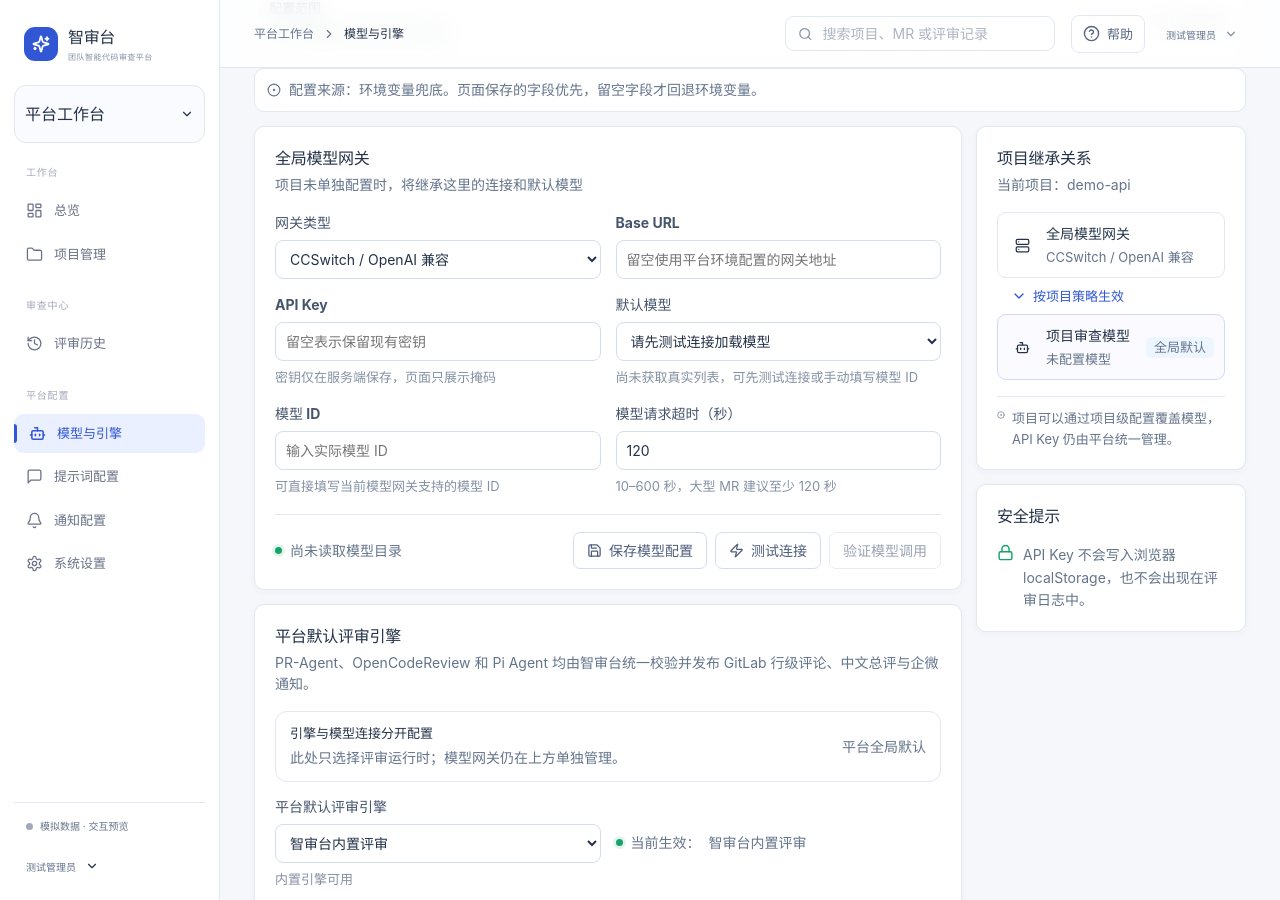
Test: treats clicking the current page as a no-op without clearing its unsaved marker
This screenshot has width=1280, height=900.
(page scrolled)
Step 1. Type "draft" into the field labelled "模型 ID" → (438, 450), box left=275, top=430, right=600, bottom=470
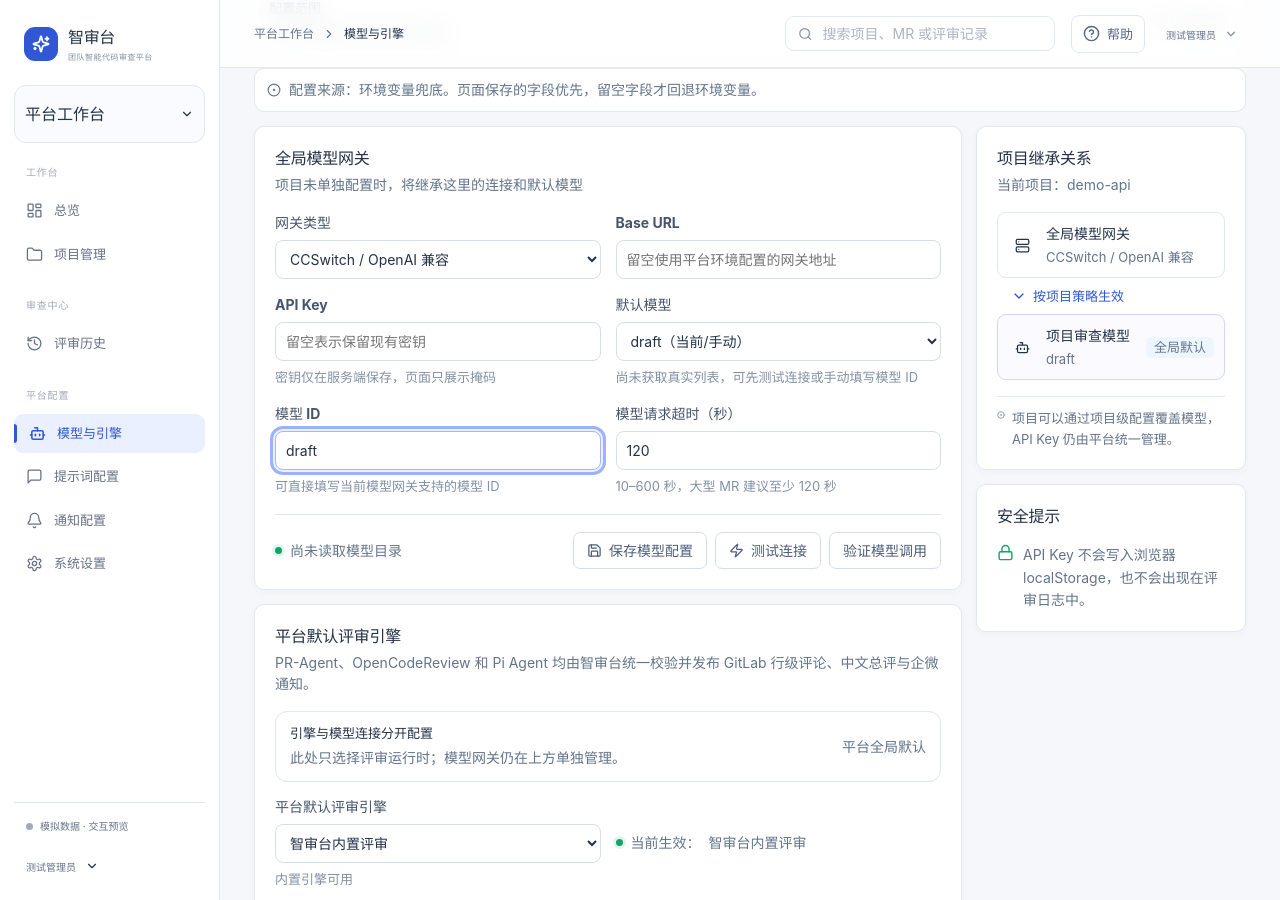
Step 2. Click the button "模型与引擎" → click(110, 433), box left=14, top=414, right=205, bottom=453
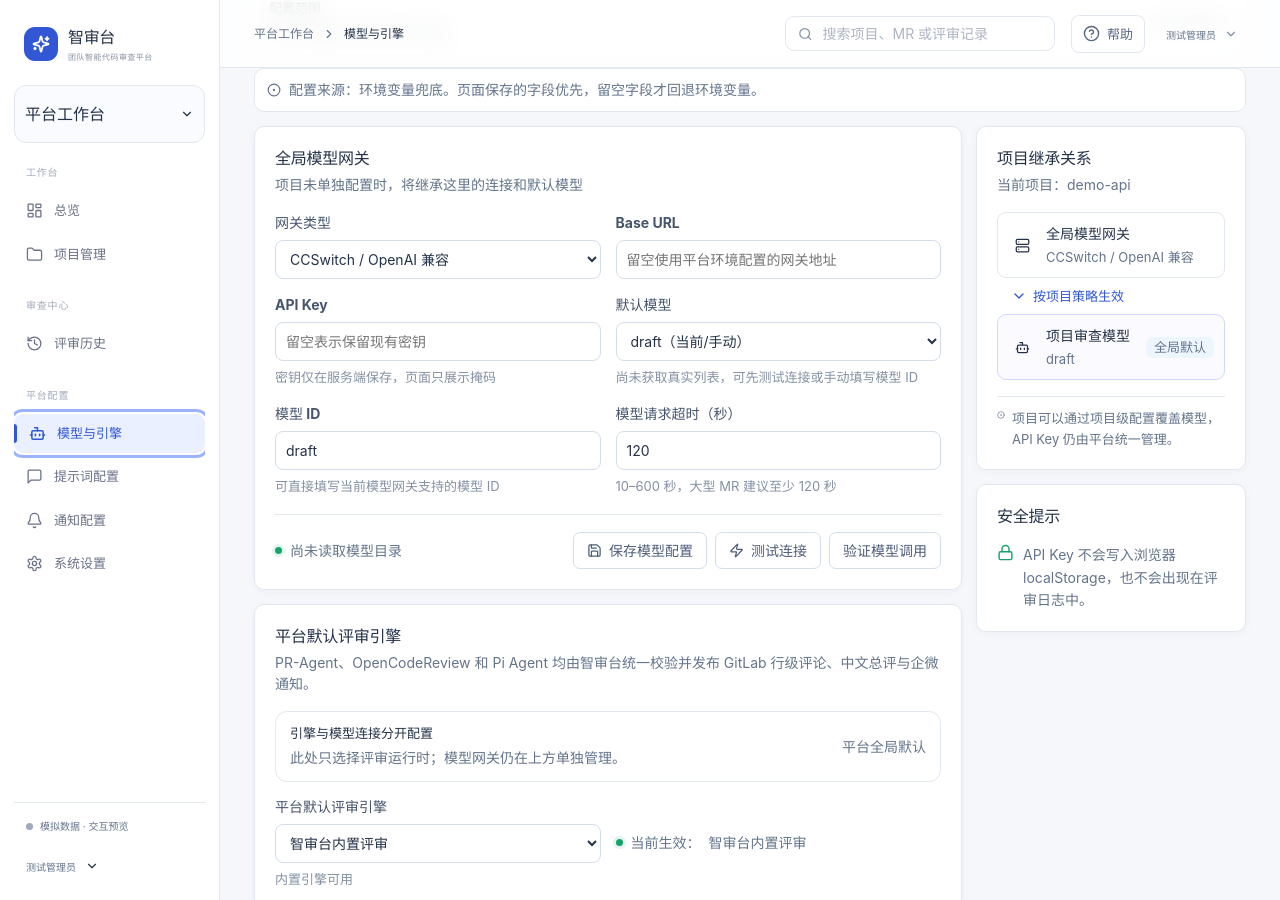
Step 3. Click the button "项目管理" → click(110, 254), box left=14, top=234, right=205, bottom=274
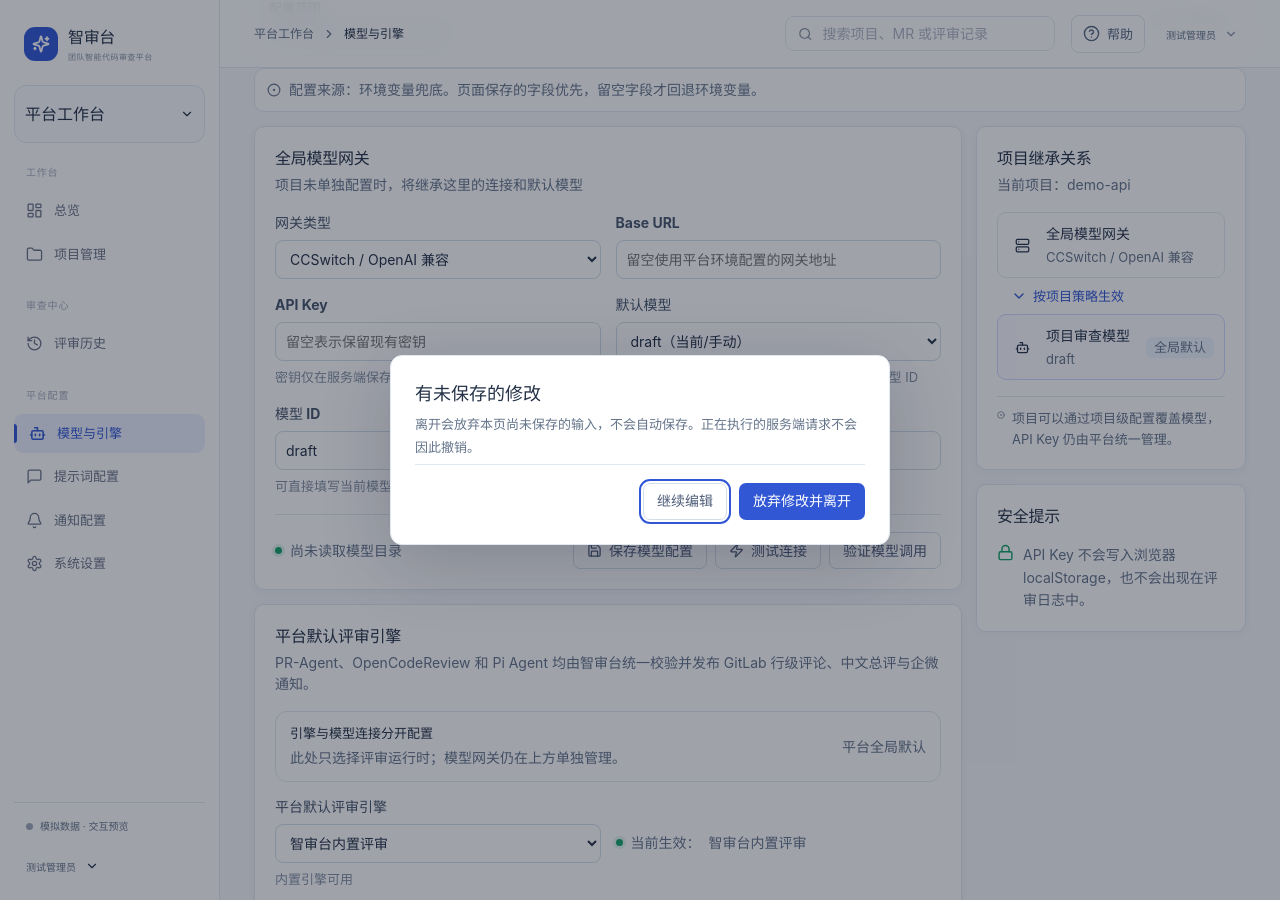
Check: the dialog is shown, box left=390, top=355, right=890, bottom=545
